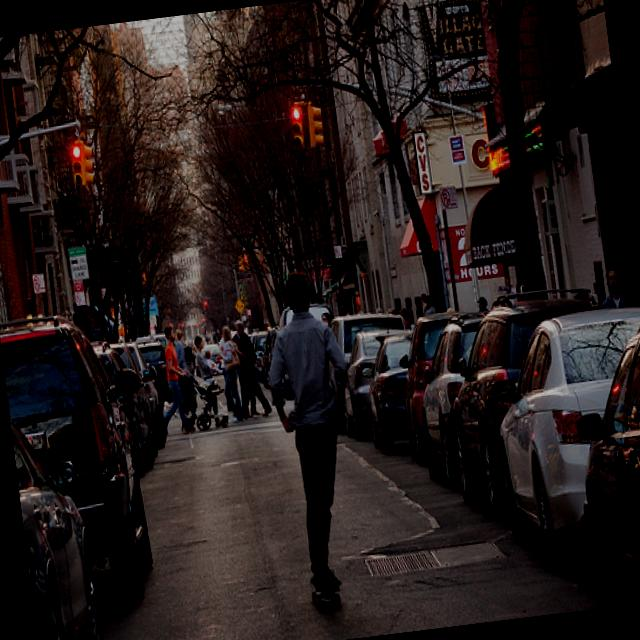Vehicle: (0, 306, 168, 614), (437, 282, 623, 524), (483, 300, 640, 574), (103, 292, 347, 454), (8, 394, 111, 640), (560, 314, 640, 608), (392, 306, 494, 466), (411, 312, 503, 488), (334, 327, 426, 442), (89, 332, 157, 477), (360, 331, 426, 454), (52, 307, 116, 399), (326, 307, 412, 363)
